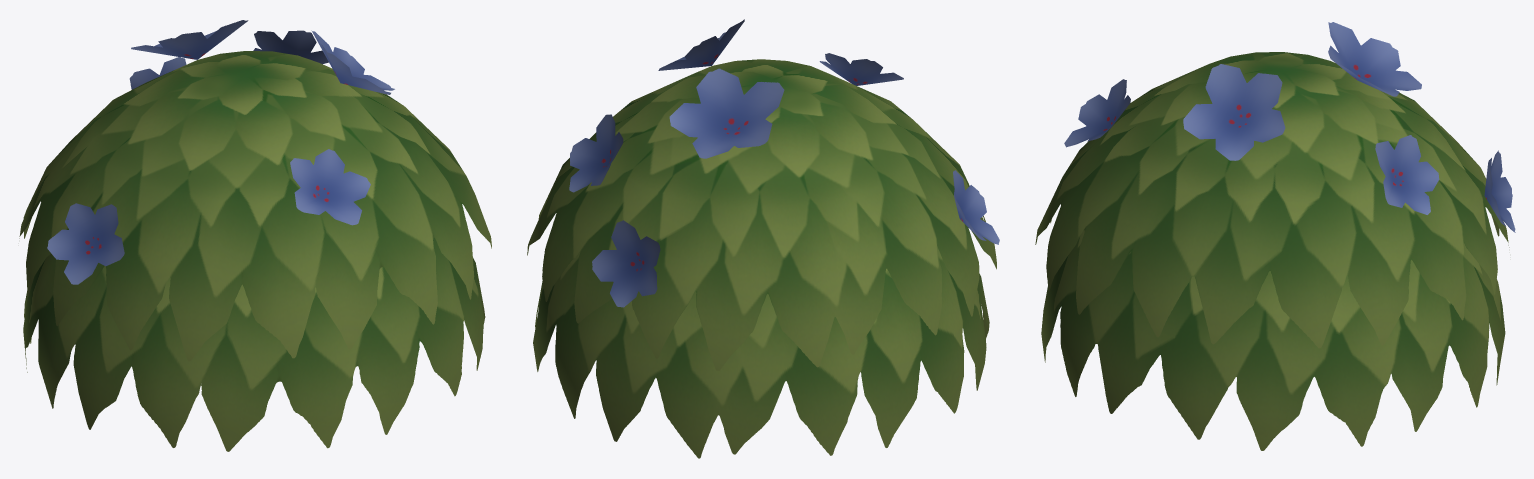
The model's file is BushBlue.FBX.
3 views of the same model, side by side, from view 1: azimuth 30°, elevation 25°; view 2: azimuth 150°, elevation 25°; view 3: azimuth 270°, elevation 25° (orthographic). The views are drawn at different scales.
Visible parts, largest first — view 1: SM_BlueFlowers; view 2: SM_BlueFlowers; view 3: SM_BlueFlowers.
Part boxes in pixels (x1,y1,x2,y2): SM_BlueFlowers: (19, 20, 491, 451); SM_BlueFlowers: (527, 19, 999, 458); SM_BlueFlowers: (1035, 22, 1515, 450).
Size of the model in its own units: 26.96 by 20.07 by 26.73.
